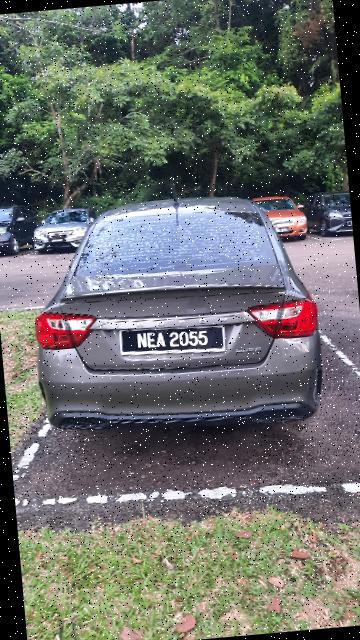License_Plate: (120, 318, 228, 362)
car: (18, 177, 327, 447), (247, 188, 312, 248), (29, 200, 96, 256), (1, 202, 45, 261), (313, 188, 355, 241)
